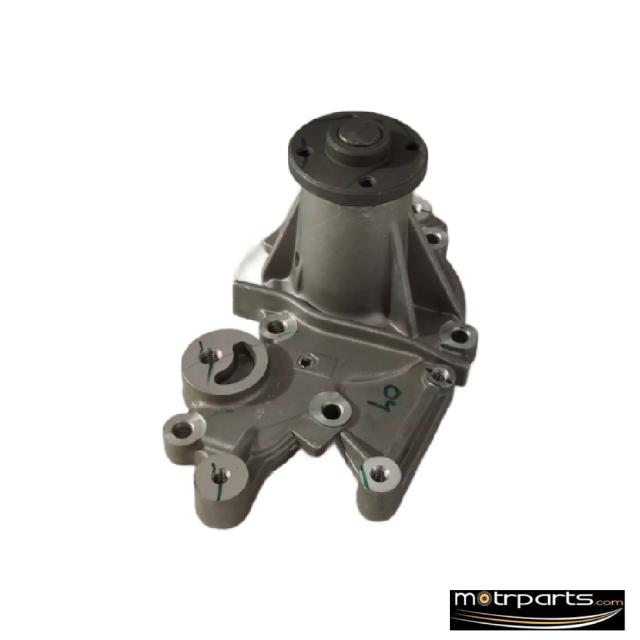video2: (156, 105, 479, 530)
